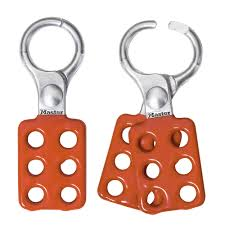hasp: (97, 19, 206, 215), (20, 17, 87, 211)
